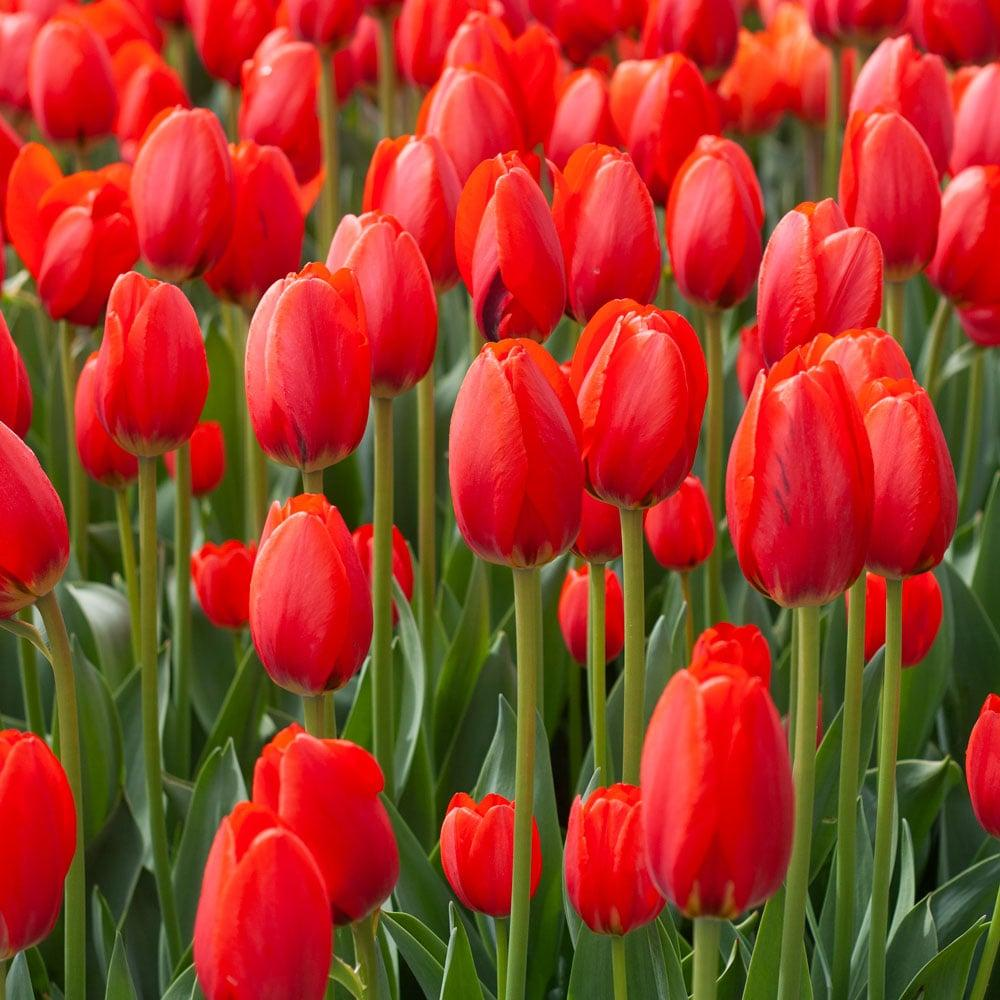tulip: (1, 1, 997, 997)
